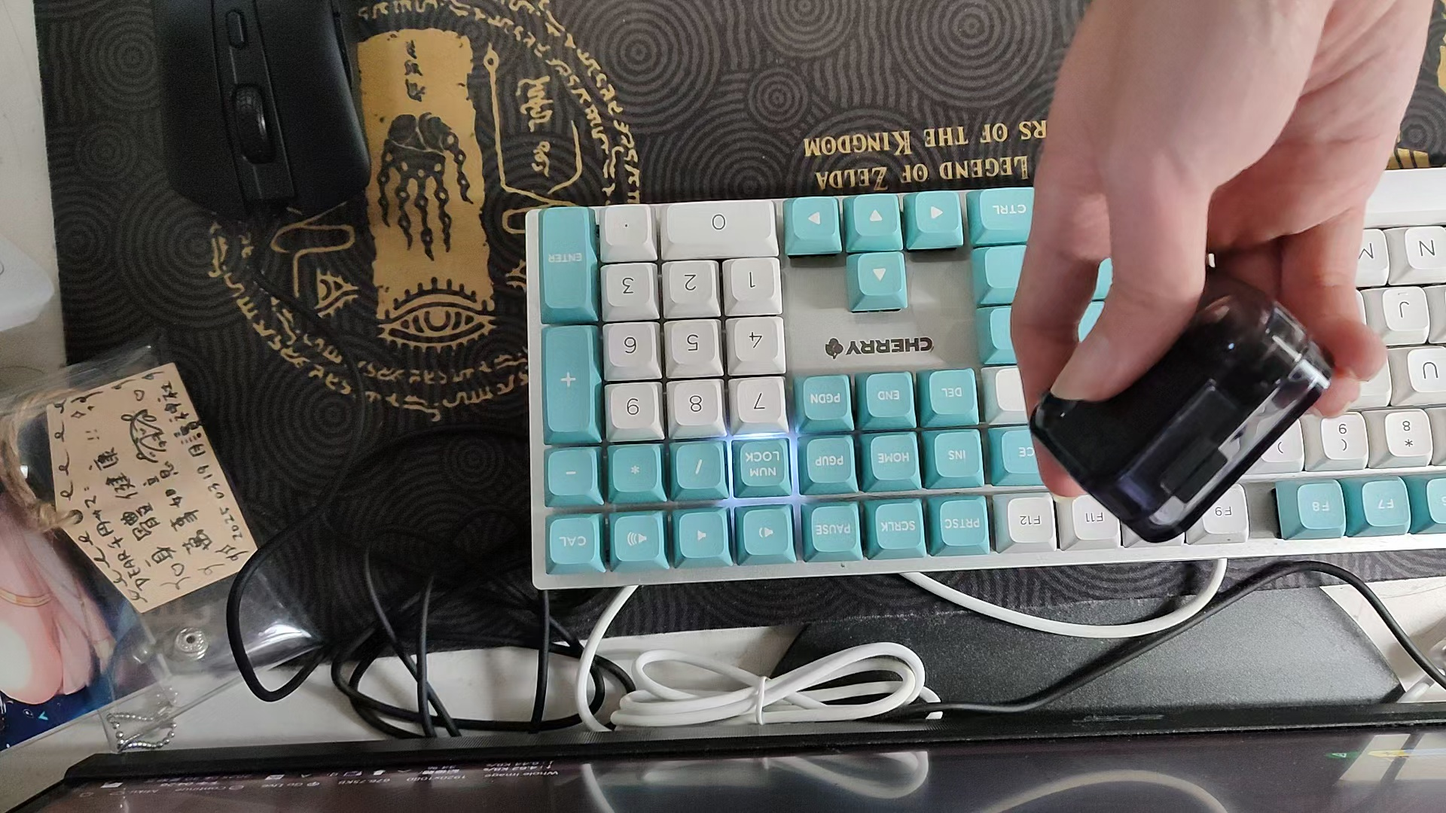Wireless_earphone: (1029, 255, 1335, 546)
